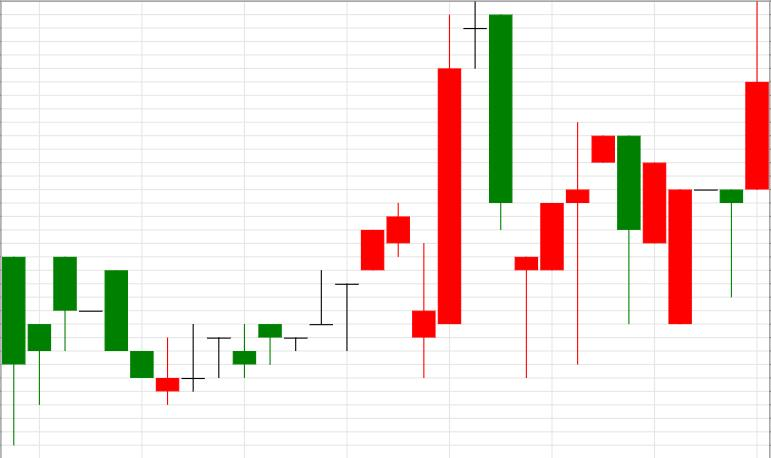bearish_engulfing_fall: (515, 122, 639, 379)
